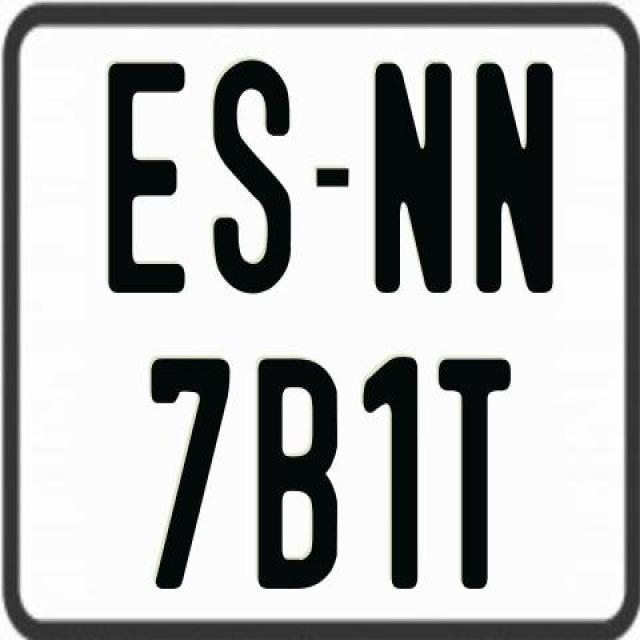1: (362, 357, 418, 596)
7: (151, 354, 232, 594)
B: (258, 357, 338, 589)
E: (105, 59, 191, 293)
N: (370, 59, 452, 299), (474, 62, 552, 301)
S: (210, 59, 292, 294)
T: (438, 355, 518, 595)
